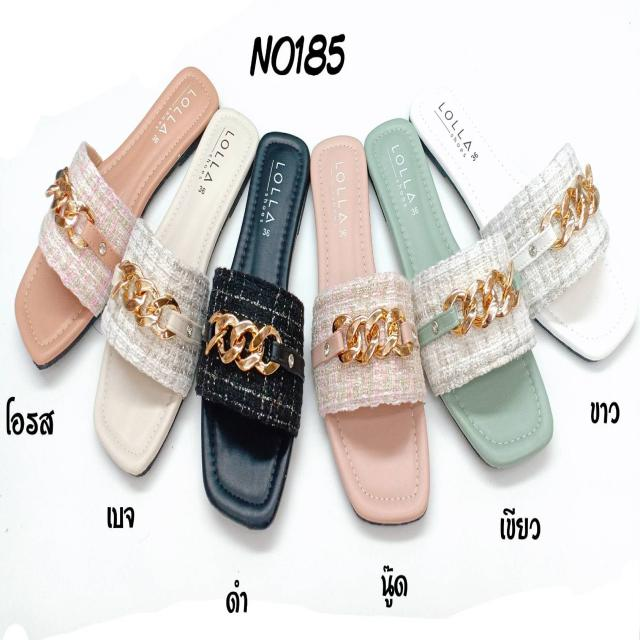bej: (78, 95, 259, 478)
black: (199, 108, 310, 527)
green: (369, 112, 557, 492)
nood: (300, 124, 433, 536)
orot: (12, 26, 222, 371)
white: (413, 98, 637, 356)
